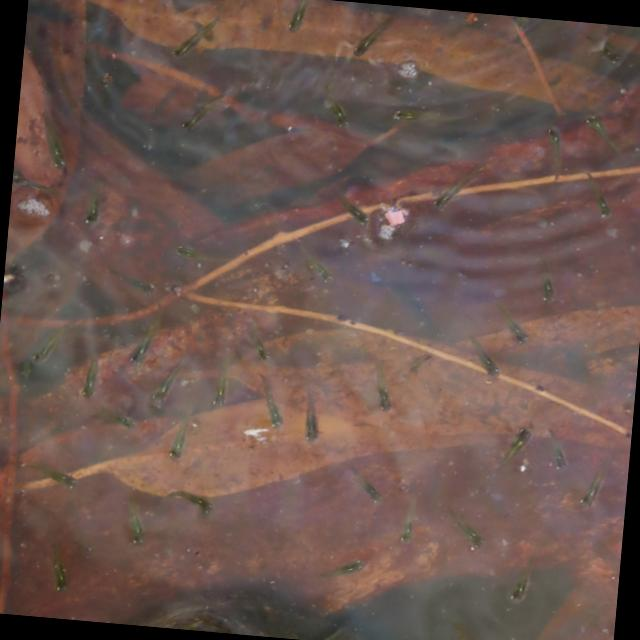Sivrisinek Baligi: (0, 0, 640, 640), (160, 3, 230, 72), (336, 4, 410, 66), (567, 448, 621, 516), (424, 155, 484, 214), (22, 113, 76, 178), (482, 415, 532, 483), (524, 118, 572, 186), (176, 80, 230, 138), (14, 456, 92, 496), (480, 302, 543, 350), (570, 169, 622, 227), (240, 372, 289, 433), (436, 504, 494, 555), (499, 547, 544, 612), (302, 80, 358, 132), (570, 113, 634, 158), (454, 327, 504, 383), (101, 497, 156, 547), (196, 350, 237, 415), (224, 312, 276, 362), (324, 182, 377, 230), (381, 492, 422, 554), (152, 406, 198, 461), (158, 240, 232, 274), (292, 382, 326, 456), (152, 485, 222, 519), (522, 256, 566, 308), (286, 241, 340, 283), (334, 462, 383, 508), (351, 358, 396, 408), (98, 262, 164, 296), (538, 425, 580, 478), (34, 542, 76, 592), (74, 182, 109, 237), (276, 0, 320, 43), (316, 549, 371, 581)
